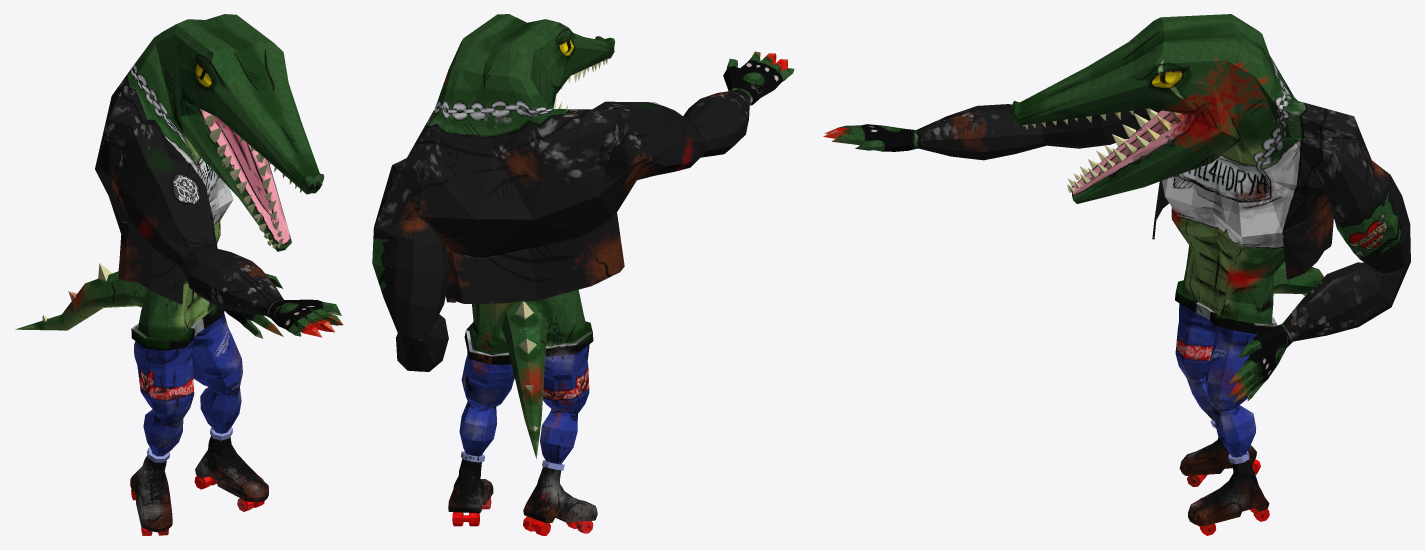
Rendered from cocodrilaBonesSelect_000011.obj.
3 renders of one model, left to right at view 1: azimuth 30°, elevation 25°; view 2: azimuth 150°, elevation 25°; view 3: azimuth 270°, elevation 25°, orthographic.
Visible parts, largest first — view 1: Crocodile.002_Cylinder.002; view 2: Crocodile.002_Cylinder.002; view 3: Crocodile.002_Cylinder.002.
Part boxes in pixels (box(x1,y1,x2,y2)): Crocodile.002_Cylinder.002: box(15, 14, 343, 535); Crocodile.002_Cylinder.002: box(372, 14, 794, 535); Crocodile.002_Cylinder.002: box(823, 14, 1410, 535).
Size of the model in its own units: 3.05 by 6.62 by 7.22.
